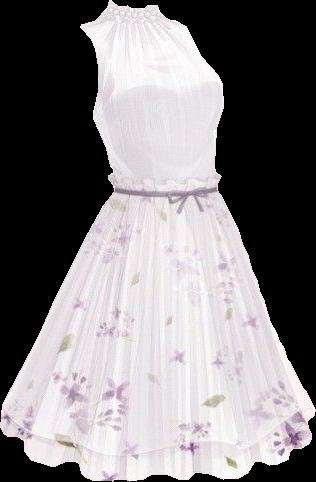Bodice: (80, 0, 223, 197)
Hemline: (0, 408, 315, 481)
Neckline: (107, 0, 160, 12)
Skirt: (0, 192, 315, 480)
Waistline: (111, 187, 218, 201)
